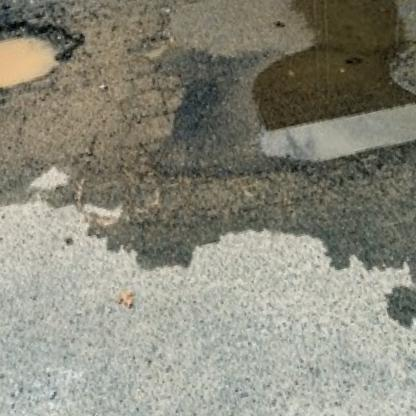pothole: (0, 1, 90, 114)
